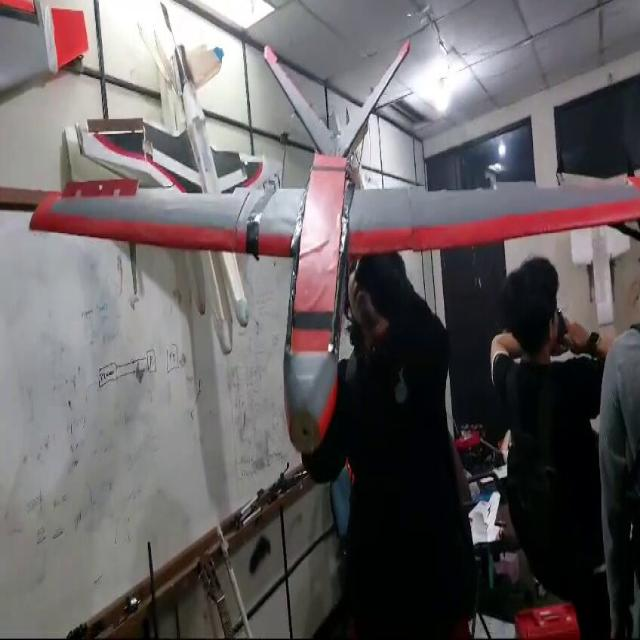plane: (23, 2, 639, 456)
